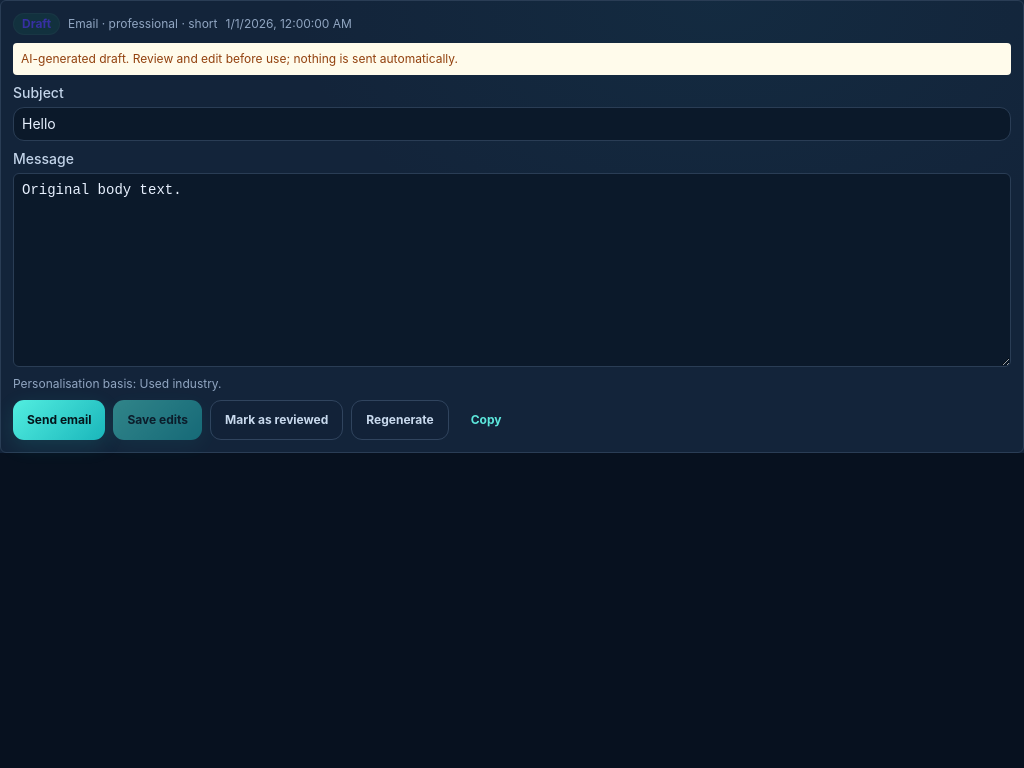
Scenario: DraftEditor › shows AI errors with the hint when regenerating fails
Click the button "Regenerate": (400, 420) [351,400,449,440]
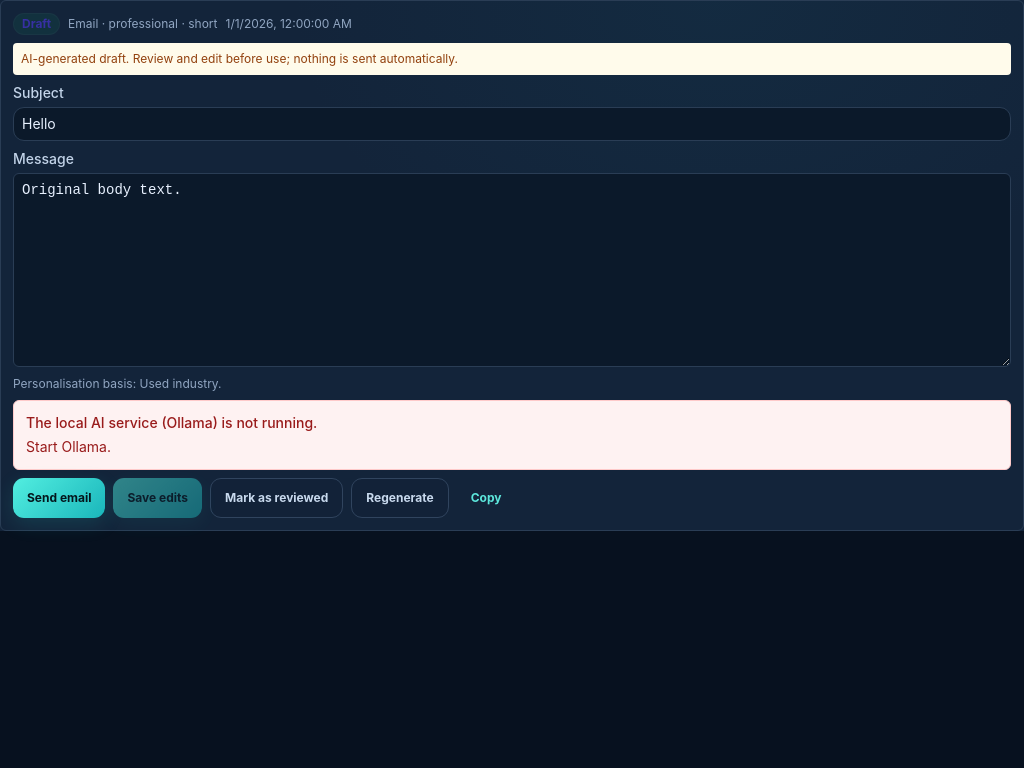
Expected: the message shows "Start Ollama.", [26,438,111,455]
